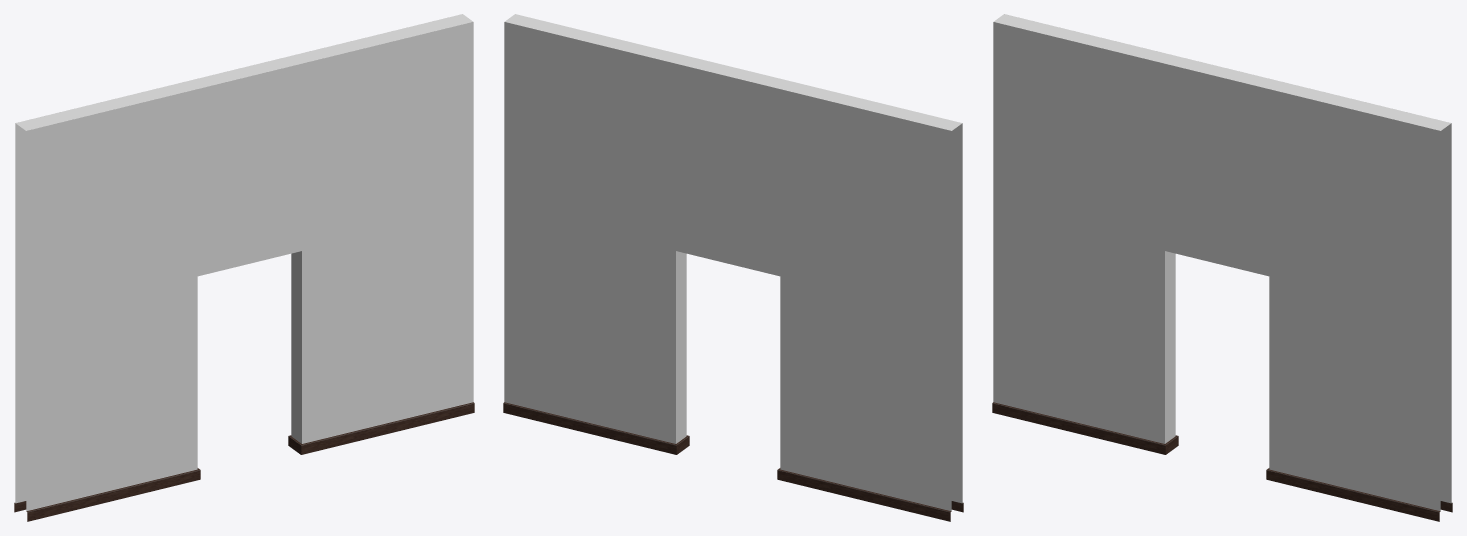
File: Wall_6.FBX
The picture shows the model from 3 angles, left to right: view 1: azimuth 30°, elevation 25°; view 2: azimuth 150°, elevation 25°; view 3: azimuth 330°, elevation 25°; orthographic projection.
Parts seen in each view (by area): view 1: wall_6; view 2: wall_6; view 3: wall_6.
Part boxes in pixels (box(x1,y1,x2,y2)): wall_6: box(14, 14, 474, 521); wall_6: box(503, 14, 963, 521); wall_6: box(992, 14, 1452, 521).
Size of the model in its own units: 4.8 by 4 by 0.24.
Materials: 1 (1 with a texture image).
